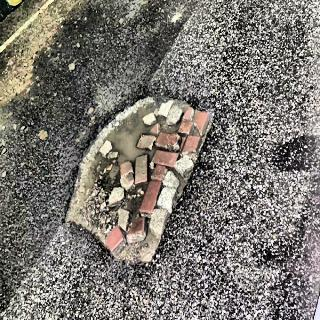pothole: (68, 94, 212, 268)
